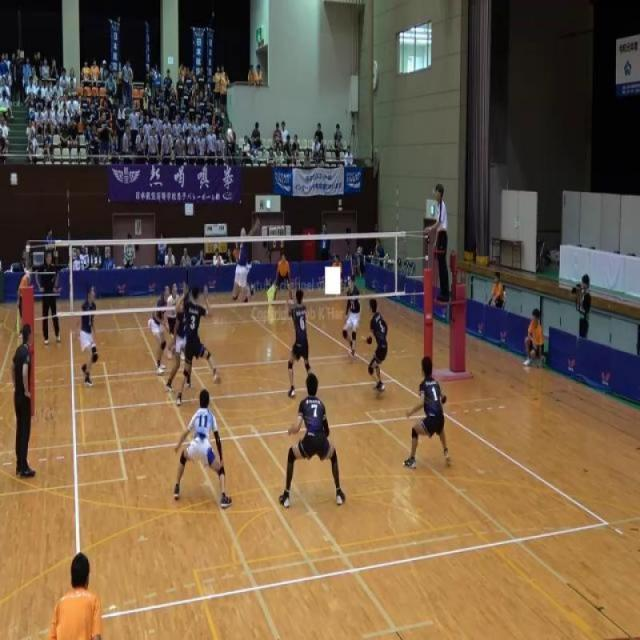volleyball: (225, 128, 233, 143)
